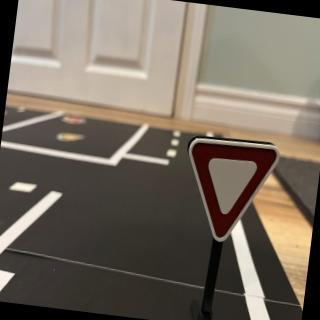sign_yield: (178, 134, 283, 251)
